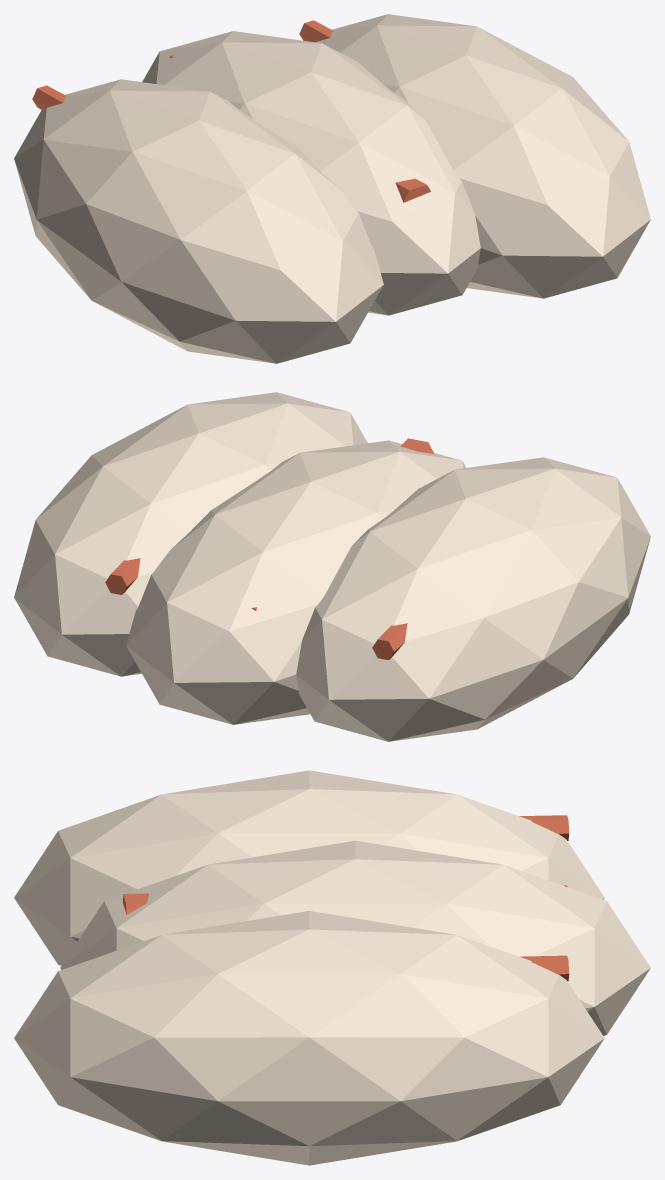
The model's file is CrabMeat.fbx.
3 views of the same model, one above another, from view 1: azimuth 30°, elevation 25°; view 2: azimuth 150°, elevation 25°; view 3: azimuth 270°, elevation 25° (orthographic). The views are drawn at different scales.
Parts seen in each view (by area): view 1: Meat2, Meat0, Meat1, RedFiber1, RedFiber2, RedFiber0; view 2: Meat2, Meat1, Meat0, RedFiber2, RedFiber0; view 3: Meat0, Meat2, Meat1, RedFiber0, RedFiber2.
Part boxes in pixels (left/top/right/bottom): Meat2: left=14, top=79, right=383, bottom=363; Meat0: left=316, top=14, right=650, bottom=298; Meat1: left=142, top=31, right=480, bottom=315; RedFiber1: left=170, top=55, right=430, bottom=202; RedFiber2: left=32, top=85, right=66, bottom=109; RedFiber0: left=299, top=20, right=333, bottom=42; Meat2: left=296, top=457, right=650, bottom=741; Meat1: left=126, top=440, right=466, bottom=724; Meat0: left=14, top=392, right=367, bottom=676; RedFiber2: left=372, top=623, right=407, bottom=660; RedFiber0: left=105, top=558, right=140, bottom=594; Meat0: left=14, top=911, right=604, bottom=1165; Meat2: left=14, top=770, right=604, bottom=965; Meat1: left=60, top=840, right=650, bottom=1035; RedFiber0: left=520, top=955, right=569, bottom=981; RedFiber2: left=519, top=815, right=569, bottom=840.
Size of the model in its own units: 0.3417 by 0.13 by 0.345.
